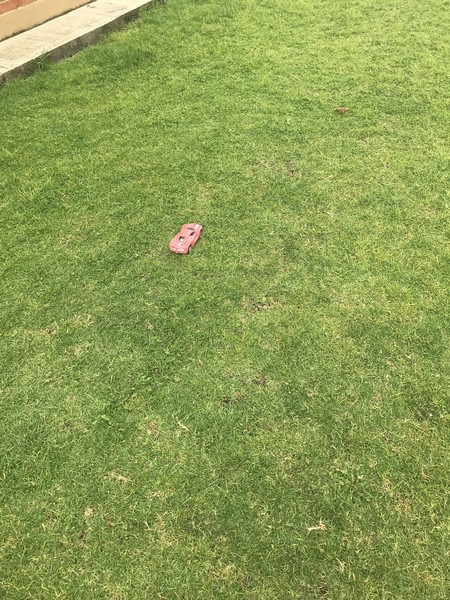RC: (167, 222, 206, 254)
